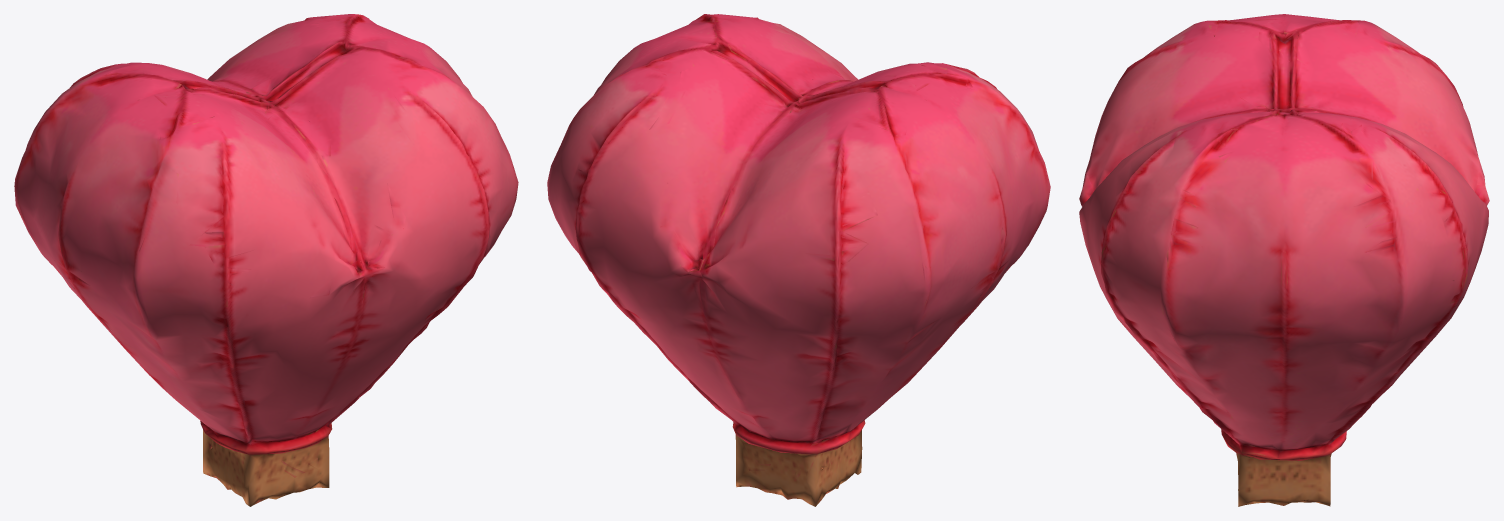
The model's file is Heart.glb.
The picture shows the model from 3 angles, left to right: view 1: azimuth 30°, elevation 25°; view 2: azimuth 150°, elevation 25°; view 3: azimuth 270°, elevation 25°; orthographic projection.
Parts seen in each view (by area): view 1: Mesh1.0; view 2: Mesh1.0; view 3: Mesh1.0.
Boxes of the visible parts, left/top/right/bottom form: Mesh1.0: left=14, top=14, right=518, bottom=506; Mesh1.0: left=547, top=14, right=1050, bottom=506; Mesh1.0: left=1079, top=14, right=1489, bottom=506.
Size of the model in its own units: 2.29 by 2.21 by 1.98.
Materials: 1 (1 with a texture image).
